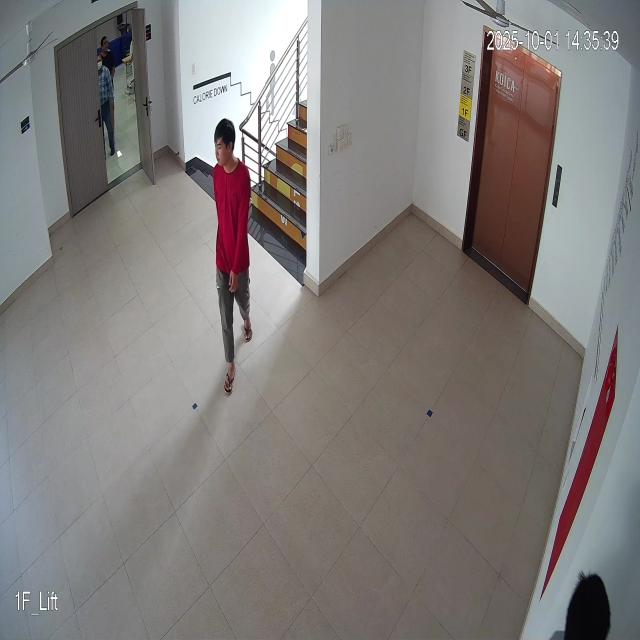face: (211, 116, 239, 173)
